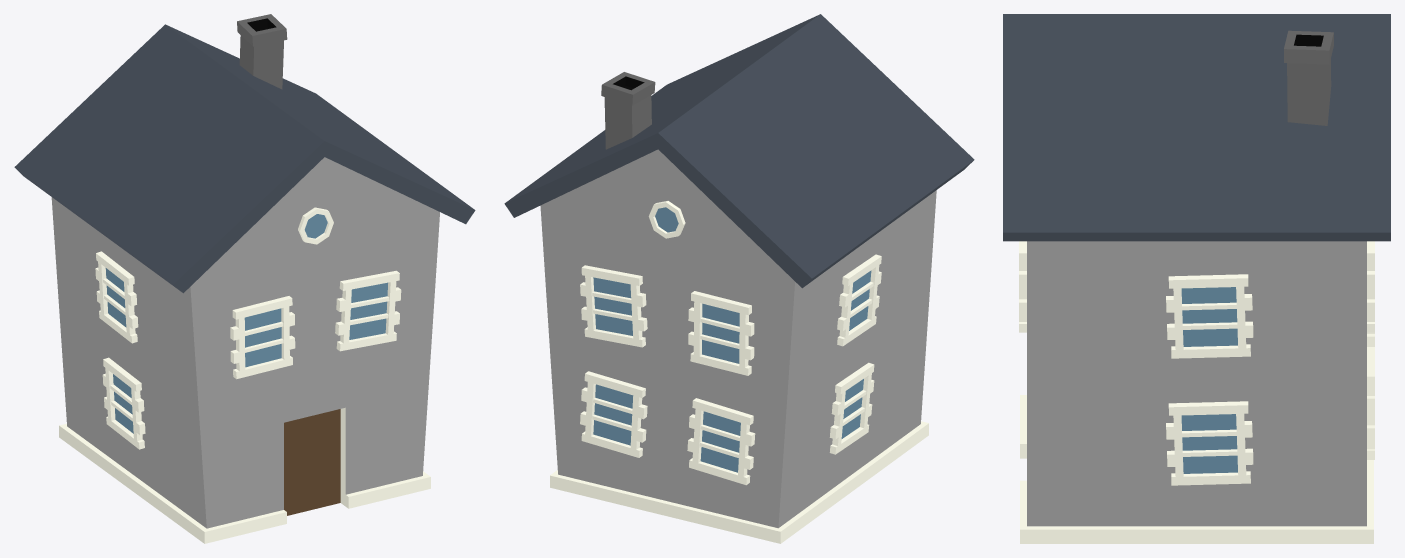
File: house9.gltf
3 renders of one model, left to right at view 1: azimuth 30°, elevation 25°; view 2: azimuth 150°, elevation 25°; view 3: azimuth 270°, elevation 25°, orthographic. The views are drawn at different scales.
Visible parts, largest first — view 1: h2.008; view 2: h2.008; view 3: h2.008.
Part boxes in pixels (box(x1,y1,x2,y2)): h2.008: box(14, 14, 475, 543); h2.008: box(504, 14, 974, 543); h2.008: box(1003, 14, 1390, 543).
Bounding box in the file's own units: 7.12 × 8.78 × 6.51.
Materials: 1 (1 with a texture image).
